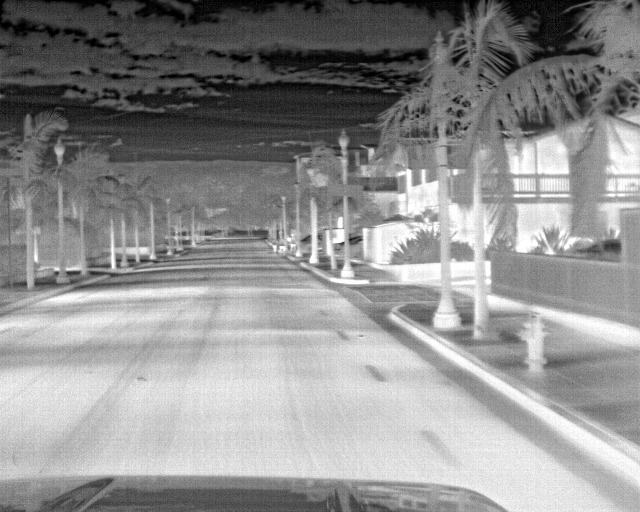car: (297, 232, 312, 258), (348, 235, 363, 259), (330, 239, 342, 261)
